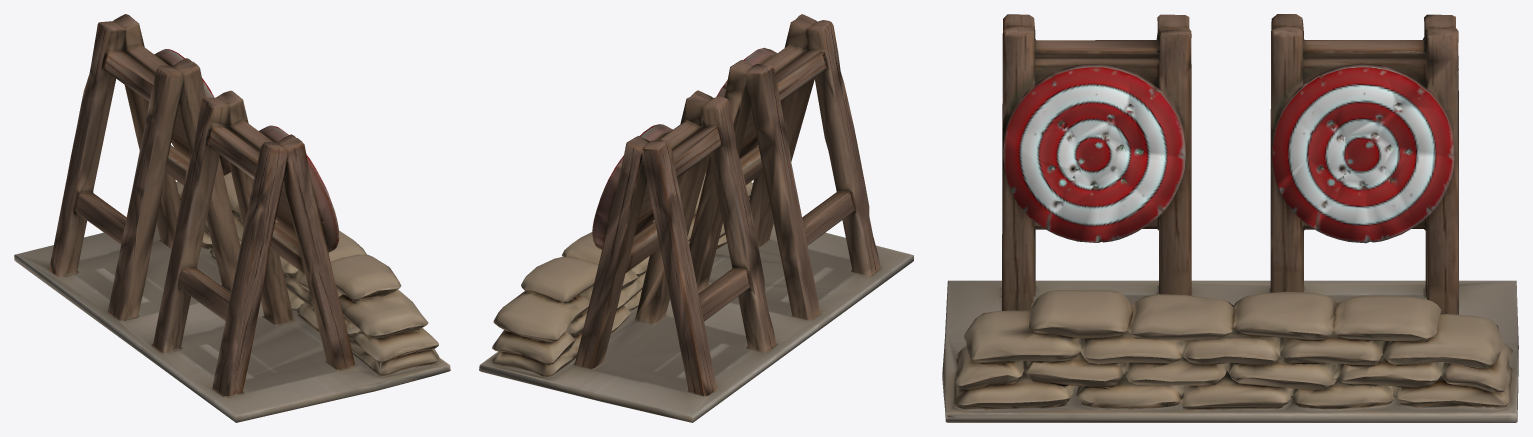
The picture shows the model from 3 angles, left to right: view 1: azimuth 30°, elevation 25°; view 2: azimuth 150°, elevation 25°; view 3: azimuth 270°, elevation 25°; orthographic projection. The views are drawn at different scales.
Visible parts, largest first — view 1: repaired; view 2: repaired; view 3: repaired.
Boxes of the visible parts, <box> form: repaired: <box>14,14,450,422</box>; repaired: <box>479,14,913,422</box>; repaired: <box>942,14,1518,422</box>.
Size of the model in its own units: 0.5503 by 0.6009 by 0.999.
Materials: 1 (1 with a texture image).
